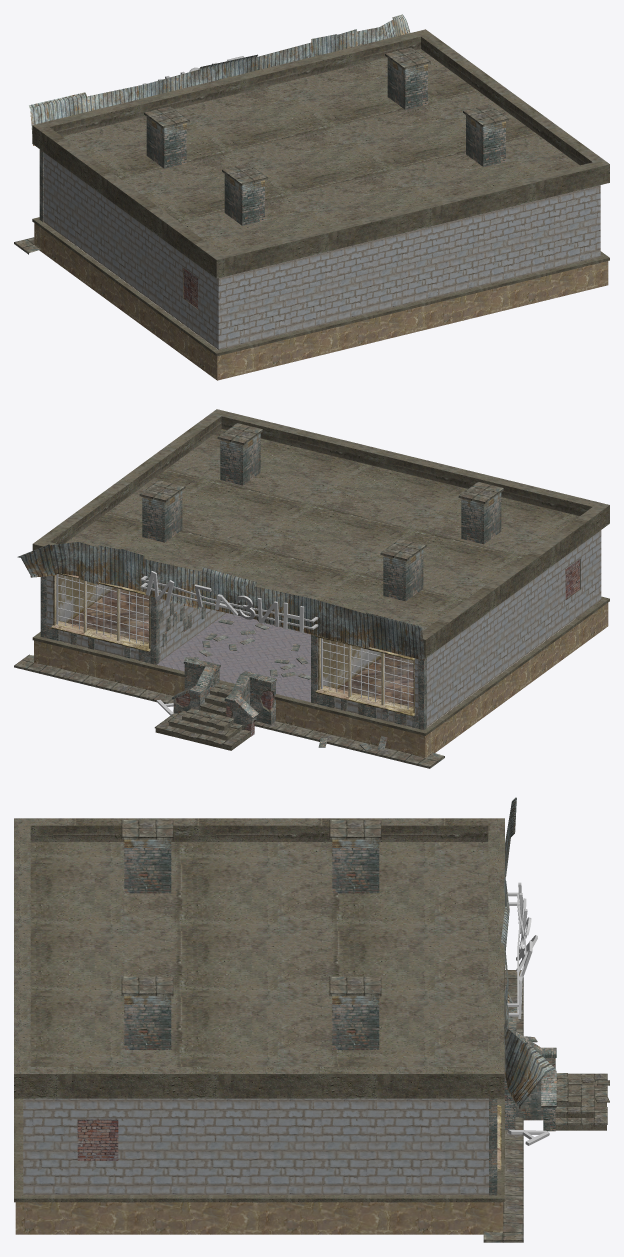
Rendered from Build01.FBX.
3 views of the same model, one above another, from view 1: azimuth 30°, elevation 25°; view 2: azimuth 150°, elevation 25°; view 3: azimuth 270°, elevation 25° (orthographic). The views are drawn at different scales.
Parts seen in each view (by area): view 1: Krisha, Wall, Fundament, Metall_List; view 2: Krisha, Fundament, Wall, Metall_List, Krilzho, Windows, Plitka_decal, Wall_interior, Magazin, PlitkaFasad; view 3: Krisha, Wall, Fundament, Krilzho, Metall_List, Magazin, PlitkaFasad.
Part boxes in pixels (<box>): Krisha: <box>32,29,609,278</box>; Wall: <box>43,152,600,349</box>; Fundament: <box>32,217,609,380</box>; Metall_List: <box>29,14,410,145</box>; Krisha: <box>32,409,609,658</box>; Fundament: <box>32,588,609,758</box>; Wall: <box>47,530,601,726</box>; Metall_List: <box>17,542,424,660</box>; Krilzho: <box>14,654,444,768</box>; Windows: <box>51,573,415,716</box>; Plitka_decal: <box>46,602,418,750</box>; Wall_interior: <box>58,574,385,688</box>; Magazin: <box>140,571,318,715</box>; PlitkaFasad: <box>40,576,426,730</box>; Krisha: <box>14,818,504,1098</box>; Wall: <box>23,1098,488,1194</box>; Fundament: <box>14,991,504,1234</box>; Krilzho: <box>483,970,609,1242</box>; Metall_List: <box>501,797,555,1108</box>; Magazin: <box>507,882,549,1145</box>; PlitkaFasad: <box>489,1098,497,1195</box>.
Bounding box in the file's own units: 198 × 184 × 69.31.
